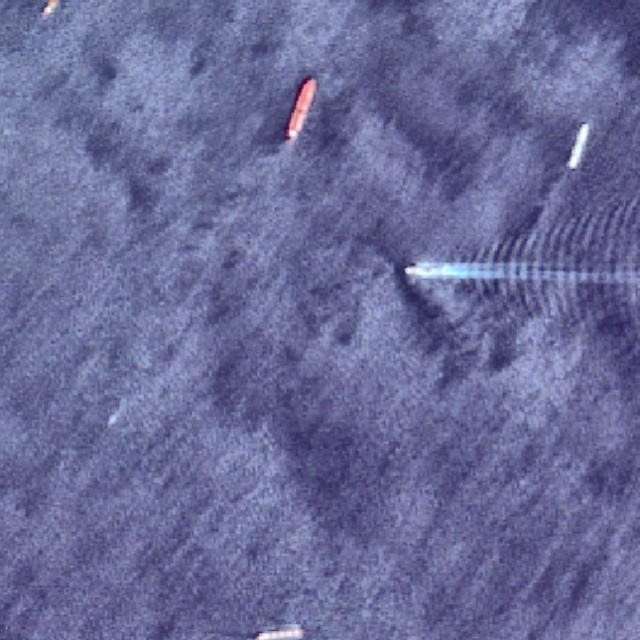wake: (398, 226, 614, 317)
